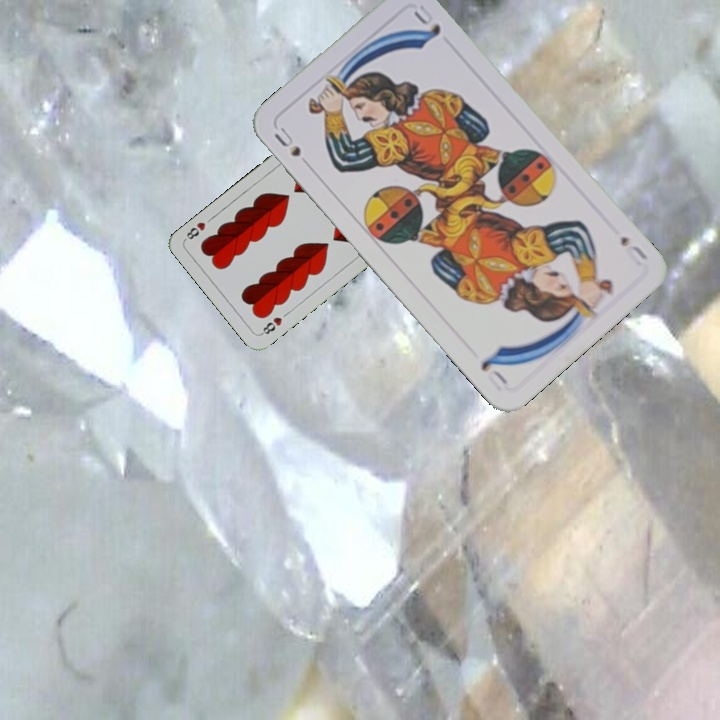H8: (257, 313, 285, 338)
SU: (616, 232, 651, 269), (270, 122, 304, 160)
